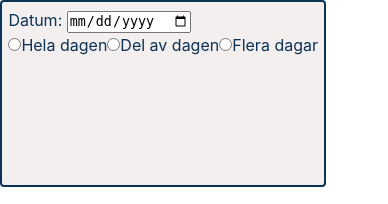
Scenario: BookingForm component › book a room with date, durationtype and room select
Type "2024-12-05" into the date field labelled "Datum:".
click(129, 22); type("2024-12-05")  # box [67,11,191,32]
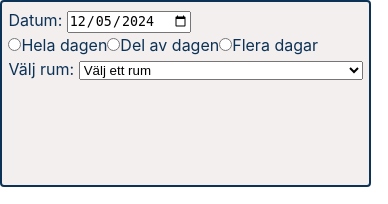
Click the radio button labelled "Hela dagen".
click(15, 44)  # box [8,38,21,51]
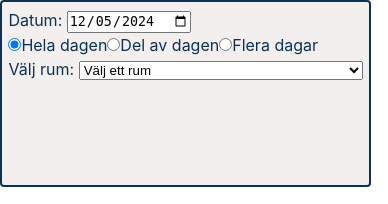
Check: the radio button labelled "Hela dagen" is checked, box [8,38,21,51]
Select "Vårsolen (6 platser) - Projektor - Whiteboard" in the dropdown labelled "Välj rum:" at (221, 70), box [79,61,363,80]
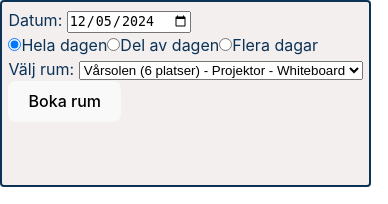
Check: the button "Boka rum" is shown, box [8,81,121,122]
